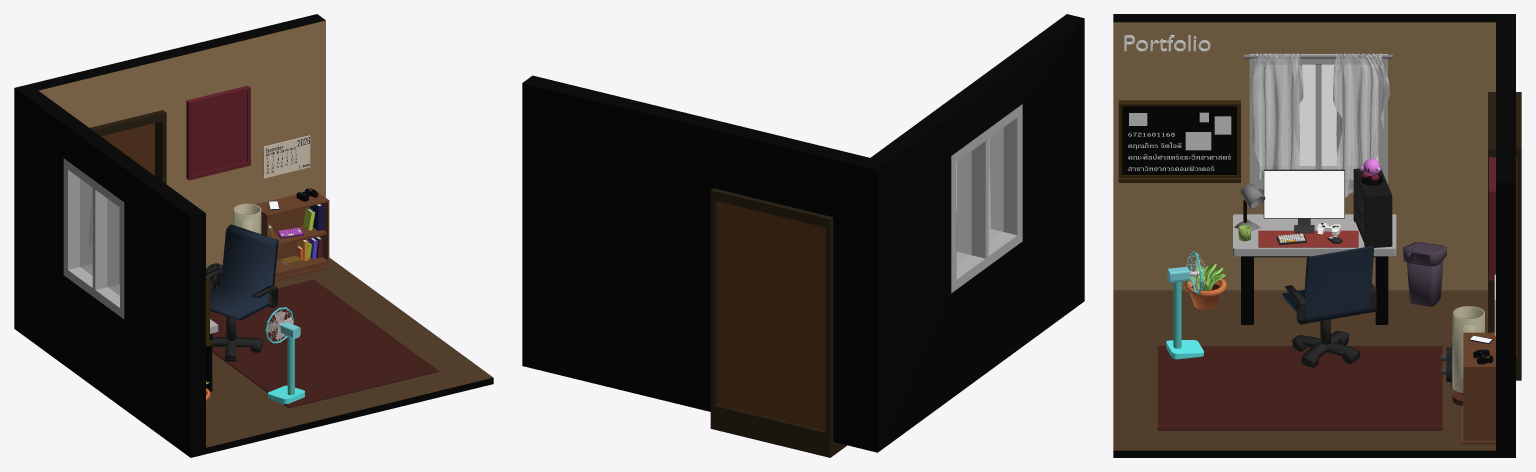
Rendered from portfolio-0.3.glb.
3 renders of one model, left to right at view 1: azimuth 30°, elevation 25°; view 2: azimuth 150°, elevation 25°; view 3: azimuth 270°, elevation 25°, orthographic. The views are drawn at different scales.
Visible parts, largest first — view 1: Cube.012, Plane.002, Cylinder, Cube, Cube.010, Plane.003, Cube.005, Torus.006, Cube.013, Cylinder.001; view 2: Cube.012, Cube.013, Plane.003; view 3: Cube.012, Plane.002, Cylinder.006, Cube.011, Cylinder, Cube.001, Cube.002, Cube.010, Plane.003, Cube.003, Cube.004, Torus.006 (+10 smaller).
Boxes of the visible parts, <box> form: Cube.012: <box>14,14,493,457</box>; Plane.002: <box>210,279,438,408</box>; Cylinder: <box>206,224,278,361</box>; Cube: <box>186,85,250,180</box>; Cube.010: <box>253,191,331,281</box>; Plane.003: <box>80,179,119,295</box>; Cube.005: <box>263,135,310,178</box>; Torus.006: <box>265,307,304,404</box>; Cube.013: <box>101,123,154,238</box>; Cylinder.001: <box>233,203,261,233</box>; Cube.012: <box>522,14,1084,457</box>; Cube.013: <box>717,201,825,430</box>; Plane.003: <box>956,128,1003,264</box>; Cube.012: <box>1113,14,1521,457</box>; Plane.002: <box>1157,346,1442,430</box>; Cylinder.006: <box>1244,53,1392,197</box>; Cube.011: <box>1118,100,1240,182</box>; Cylinder: <box>1282,246,1376,367</box>; Cube.001: <box>1233,214,1396,324</box>; Cube.002: <box>1263,169,1344,233</box>; Cube.010: <box>1461,332,1495,444</box>; Plane.003: <box>1259,64,1378,171</box>; Cube.003: <box>1353,167,1392,247</box>; Cube.004: <box>1403,242,1446,306</box>; Torus.006: <box>1166,251,1205,359</box>.
Size of the model in its own units: 10 by 7.81 by 10.
